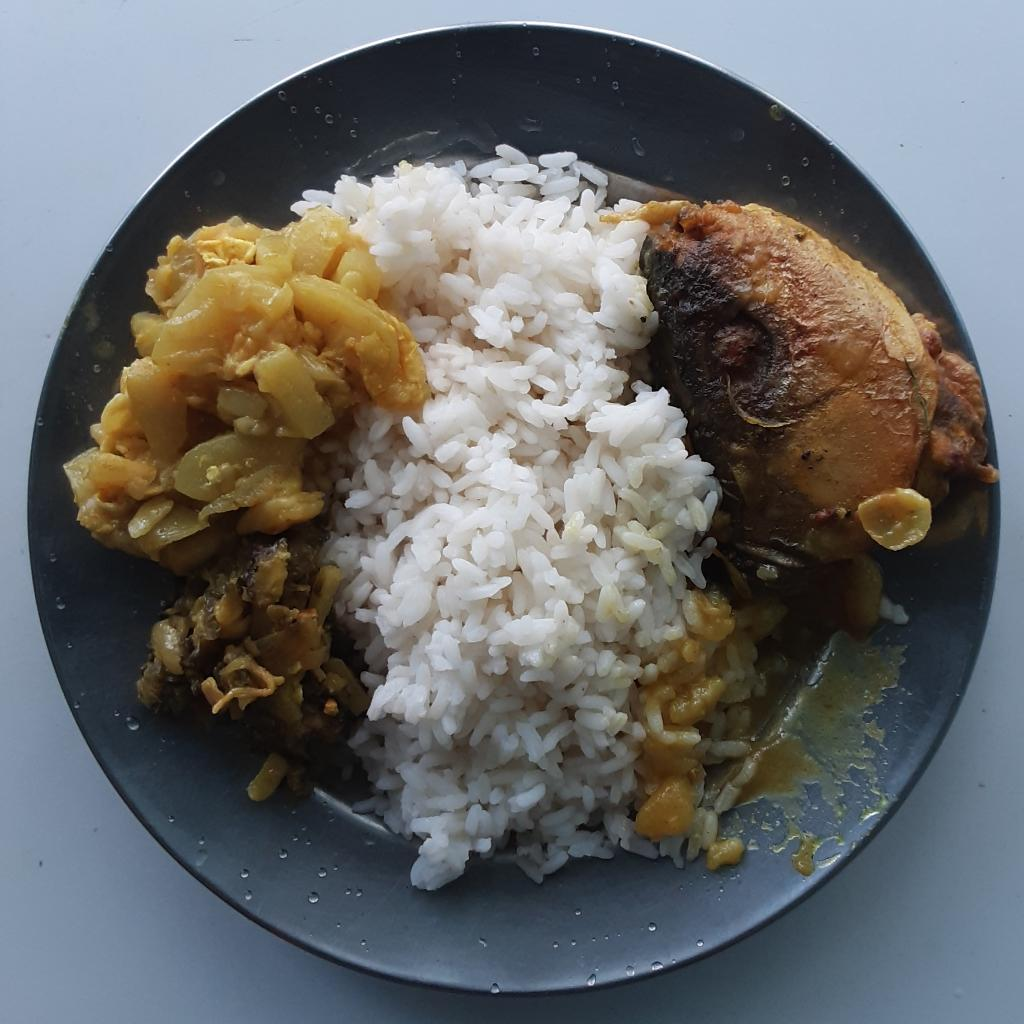fish: (645, 198, 1003, 640)
korola-vaji: (136, 532, 360, 806)
lau: (62, 200, 431, 569)
rice: (292, 143, 789, 894)
